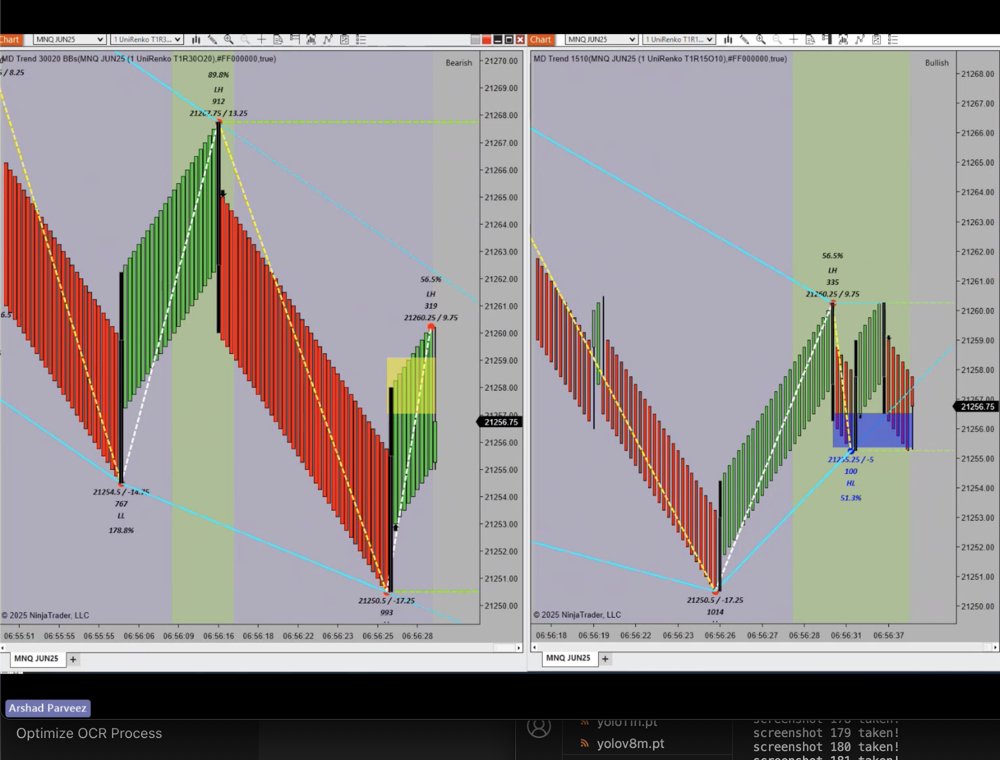HL: (839, 471, 866, 495)
LH: (420, 286, 448, 307), (822, 264, 849, 282), (209, 82, 234, 97)
LL: (109, 503, 131, 525)
